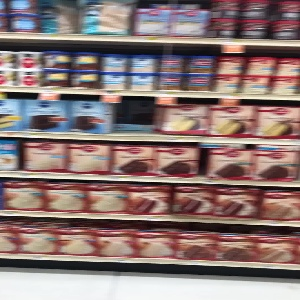void: (115, 96, 159, 137)
